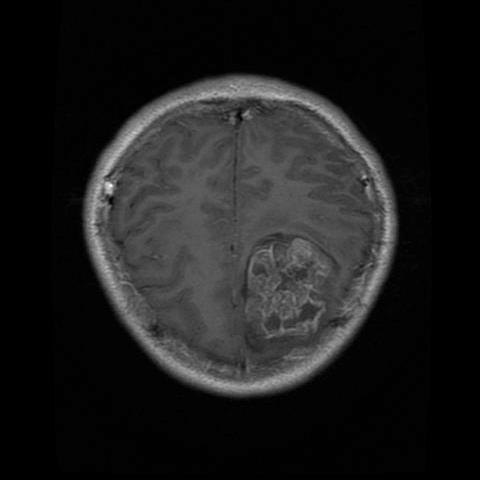Tumour-Glioma: (242, 236, 331, 336)
